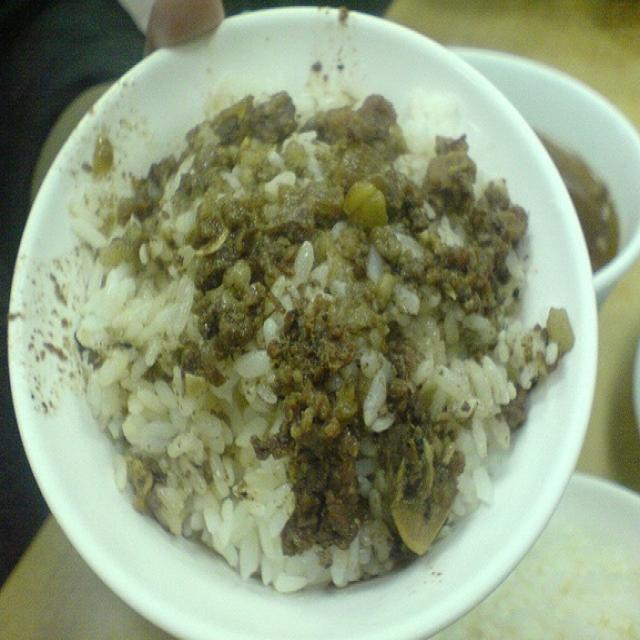猪肉菜式: (43, 31, 591, 608)
